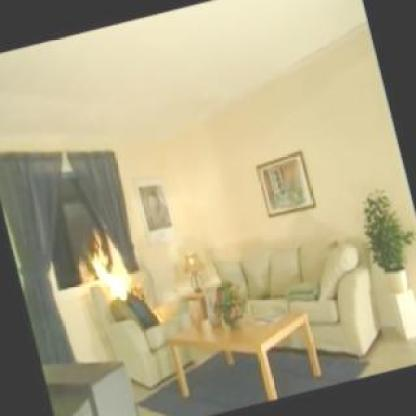Fire: (77, 223, 143, 318)
